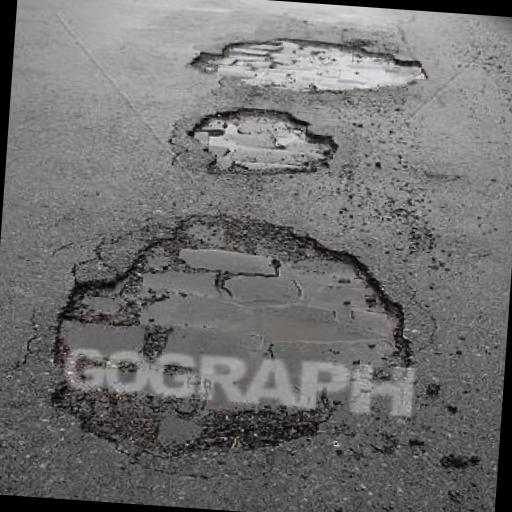pothole: (34, 194, 424, 473), (183, 29, 430, 92), (182, 100, 344, 181)
